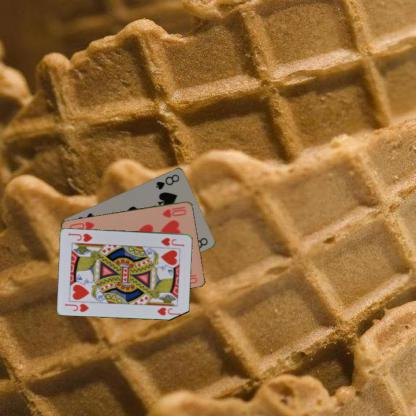10h: (160, 204, 188, 218)
8s: (153, 172, 181, 190)
Jh: (63, 301, 90, 313), (159, 235, 185, 247)
